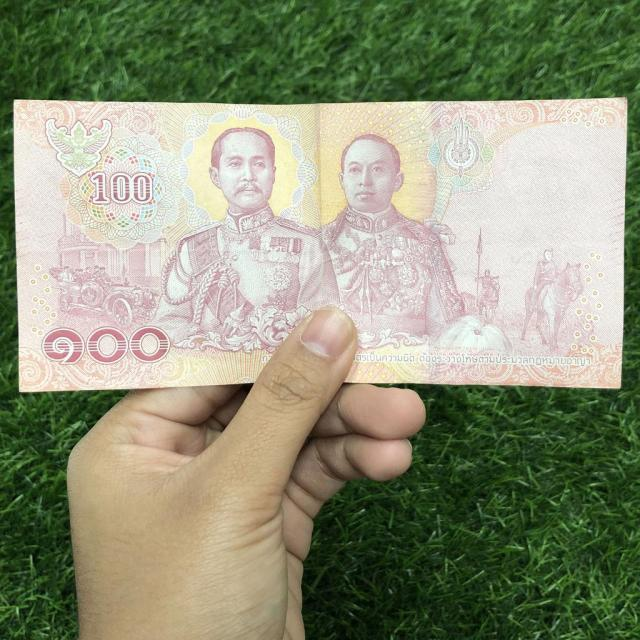THAI100: (14, 99, 626, 391)
